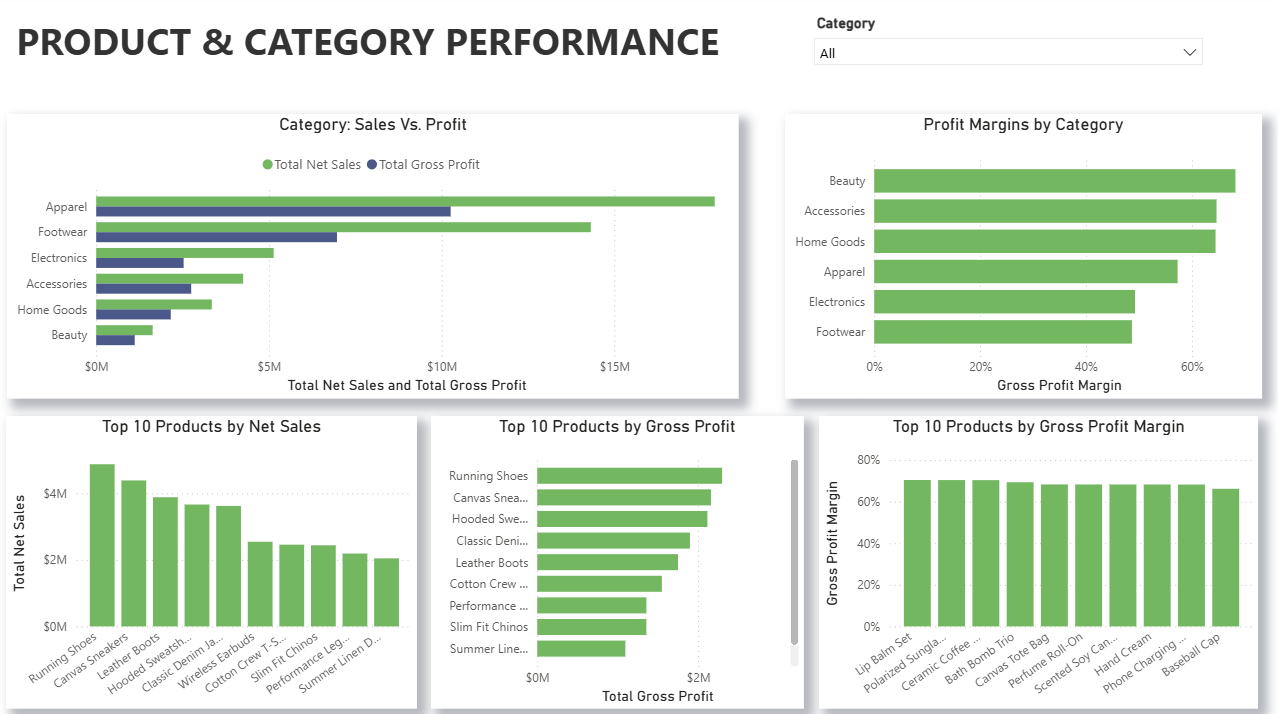

What the dashboard file says about the page in this screenshot:
{"tool":"powerbi","page":{"name":"Product & Category Performance","canvas":[1280,720],"ordinal":1},"visuals":[{"type":"clusteredBarChart","title":"Category: Sales Vs. Profit","fields":{"Category":["dim_category.category"],"Y":["Measures Table.Total Net Sales","Measures Table.Total Gross Profit"]},"box":[8.1,118.2,730.3,283.8],"z":0},{"type":"clusteredBarChart","title":"Profit Margins by Category","fields":{"Category":["dim_category.category"],"Y":["Measures Table.Gross Profit Margin"]},"box":[783.8,118.2,475.8,283.8],"z":1000},{"type":"clusteredColumnChart","title":"Top 10 Products by Net Sales","fields":{"Category":["dim_products.item"],"Y":["Measures Table.Total Net Sales"]},"box":[7.1,419.2,410.1,291.9],"z":2000},{"type":"clusteredBarChart","title":"Top 10 Products by Gross Profit","fields":{"Category":["dim_products.item"],"Y":["Measures Table.Total Gross Profit"]},"box":[431.3,419.2,371.7,291.9],"z":3000},{"type":"clusteredColumnChart","title":"Top 10 Products by Gross Profit Margin","fields":{"Category":["dim_products.item"],"Y":["Measures Table.Gross Profit Margin"]},"box":[818.2,419.2,438.4,291.9],"z":4000},{"type":"slicer","fields":{"Values":["dim_category.category"]},"box":[803,14.1,408.1,87.9],"z":5000},{"type":"textbox","box":[8.1,14.1,730.3,87.9],"z":6000}]}

Visuals, with their boxes in screenshot pixels (x1, y1, x2, y2), scaled from the page's 1280x720 canvas onto the 1278x714 screenshot:
"Category: Sales Vs. Profit" clusteredBarChart: [x1=8, y1=117, x2=737, y2=399]
"Profit Margins by Category" clusteredBarChart: [x1=783, y1=117, x2=1258, y2=399]
"Top 10 Products by Net Sales" clusteredColumnChart: [x1=7, y1=416, x2=417, y2=705]
"Top 10 Products by Gross Profit" clusteredBarChart: [x1=431, y1=416, x2=802, y2=705]
"Top 10 Products by Gross Profit Margin" clusteredColumnChart: [x1=817, y1=416, x2=1255, y2=705]
slicer - dim_category.category: [x1=802, y1=14, x2=1209, y2=101]
textbox: [x1=8, y1=14, x2=737, y2=101]
